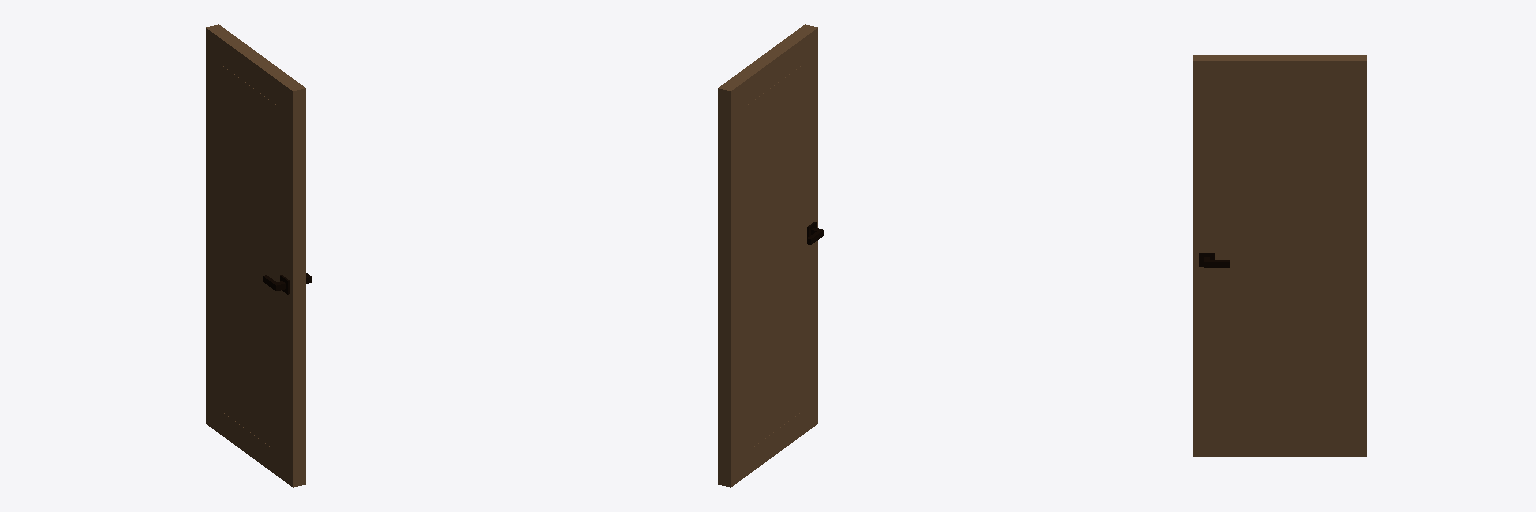
The model's file is door803_brown.obj.
3 views of the same model, side by side, from view 1: azimuth 30°, elevation 25°; view 2: azimuth 150°, elevation 25°; view 3: azimuth 270°, elevation 25° (orthographic).
Visible parts, largest first — view 1: Cube; view 2: Cube; view 3: Cube.
Part boxes in pixels (x1,y1,x2,y2): Cube: (206,24,311,487); Cube: (718,24,823,487); Cube: (1193,55,1366,456).
Size of the model in its own units: 0.1899 by 2 by 0.7999.